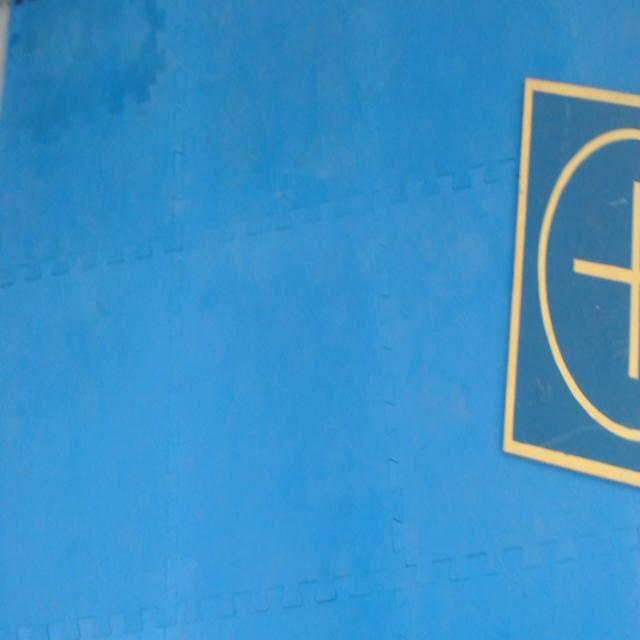base_pouso: (501, 77, 640, 486)
